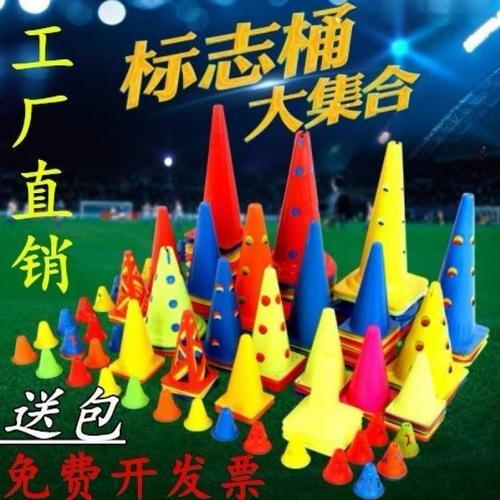cone_barrel: (342, 141, 415, 304), (426, 194, 485, 358), (270, 123, 329, 277), (187, 101, 244, 251), (132, 242, 202, 343), (342, 319, 392, 415), (216, 334, 269, 418), (294, 304, 342, 391), (391, 346, 440, 428)
